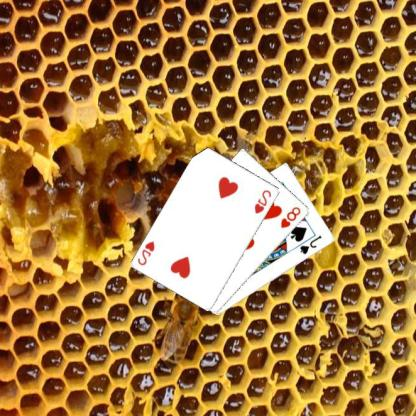2H: (137, 238, 158, 267), (254, 187, 274, 215)
8H: (280, 204, 304, 230)
JS: (299, 232, 325, 256)
